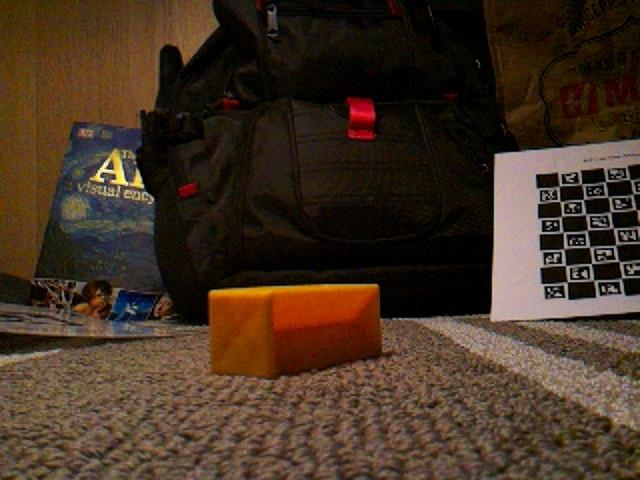yellow: (206, 282, 385, 380)
